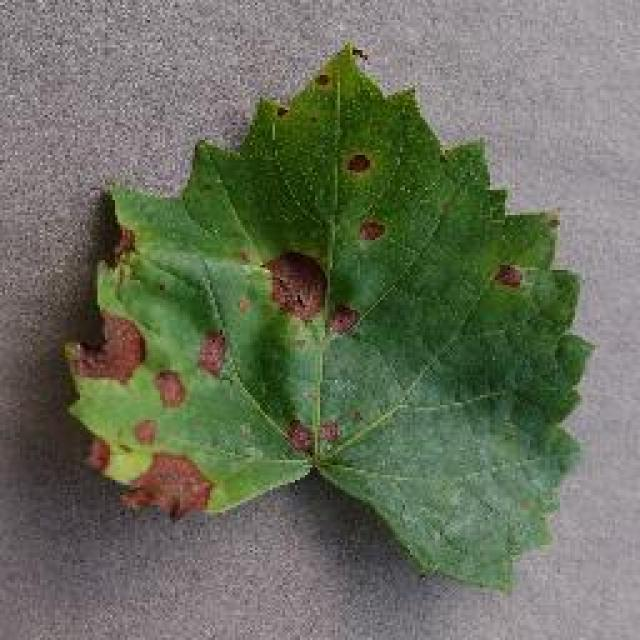Grape___Black_rot: (55, 33, 604, 603)
